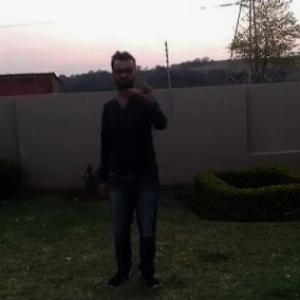land_hand: (131, 76, 159, 115)
